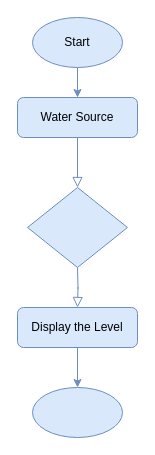
Image size: 155x455. Some labels were removed from this diagram. Here are the shapes that lost their labels. From the top down, the box of each, then its label:
(26, 186, 128, 268): Water Level of Houses
(32, 386, 122, 438): End
